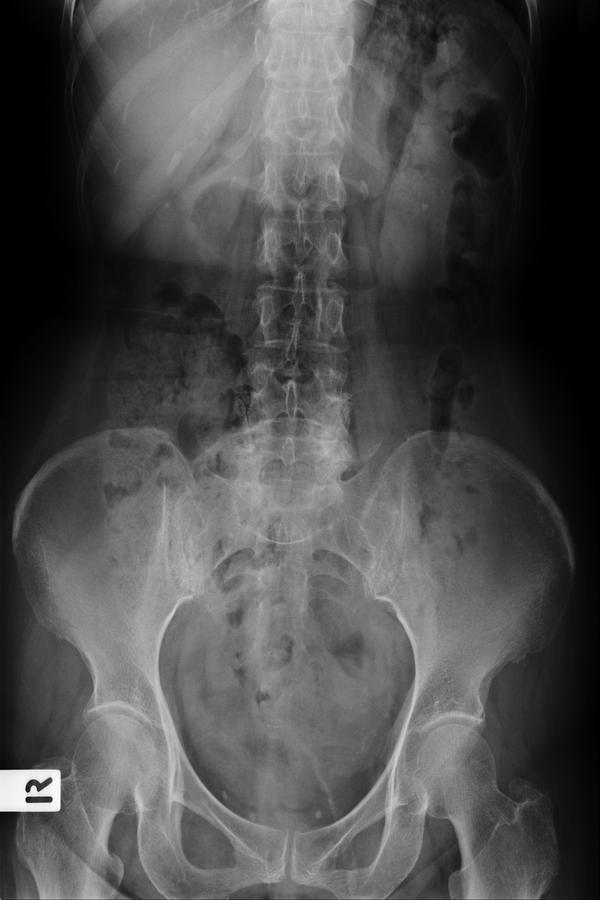not lumbar scoliosis: (240, 133, 361, 520)
